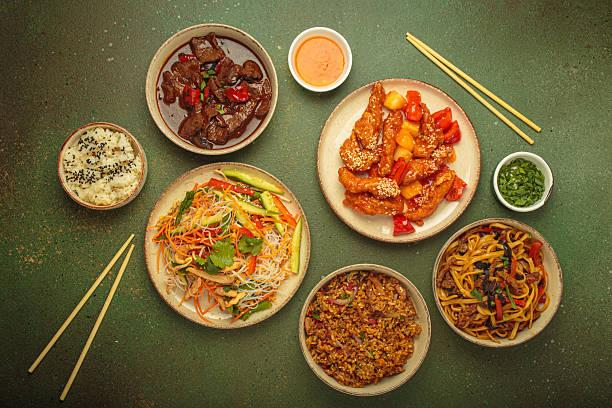Braised Crucian Carp: (315, 77, 479, 244), (143, 161, 307, 328), (297, 261, 429, 396), (144, 23, 278, 155), (432, 217, 563, 350)
